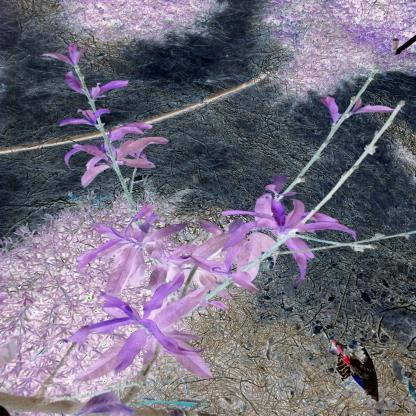peach leaf: (141, 273, 194, 318), (106, 246, 143, 298), (114, 331, 151, 372)
